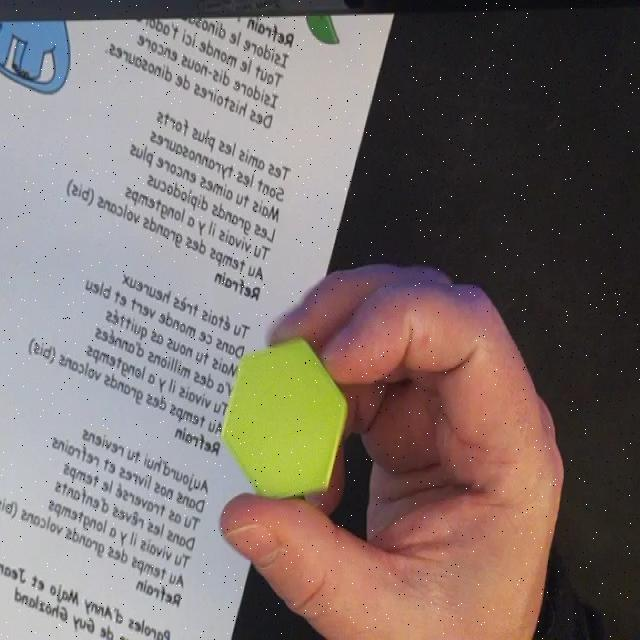hexagon: (220, 338, 347, 506)
